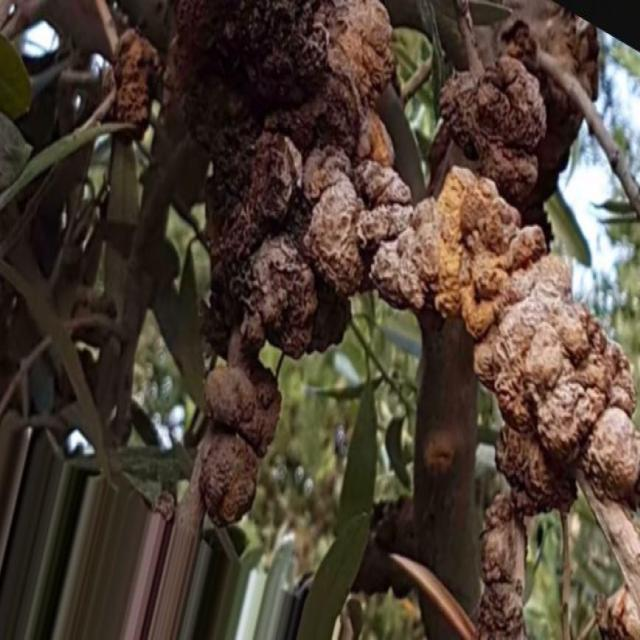Tuberculosis: (165, 0, 640, 548)
